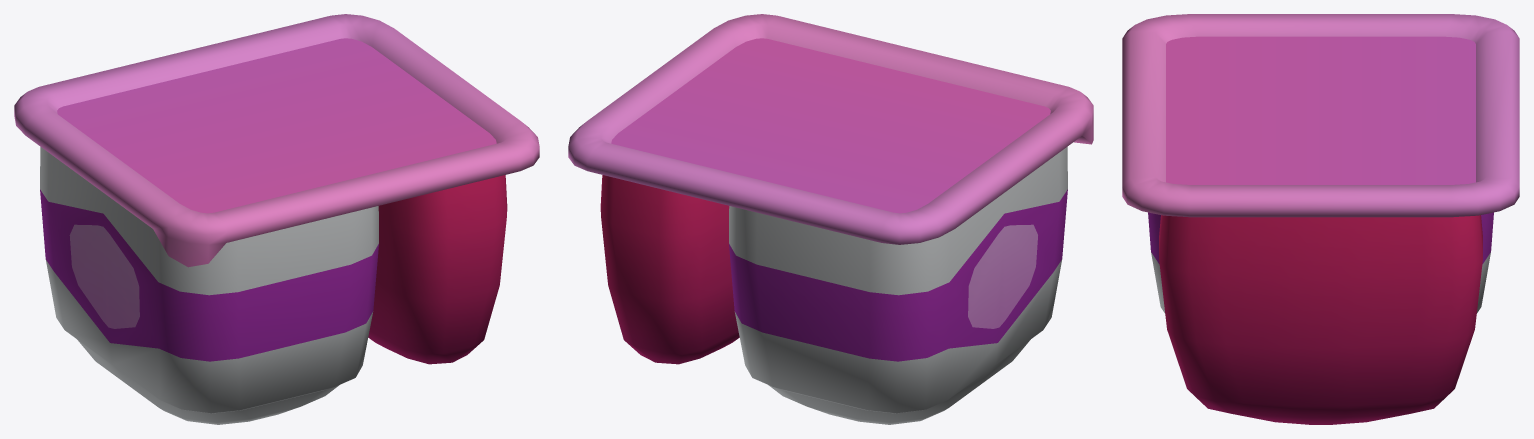
Rendered from yogurt_008.fbx.
3 views of the same model, side by side, from view 1: azimuth 30°, elevation 25°; view 2: azimuth 150°, elevation 25°; view 3: azimuth 270°, elevation 25° (orthographic). The views are drawn at different scales.
Visible parts, largest first — view 1: yogurt_008; view 2: yogurt_008; view 3: yogurt_008.
Boxes of the visible parts, x1,y1,x2,y2 form: yogurt_008: [14, 14, 539, 424]; yogurt_008: [568, 14, 1093, 424]; yogurt_008: [1122, 14, 1519, 424].
Bounding box in the file's own units: 8.05 × 7.16 × 4.98.
